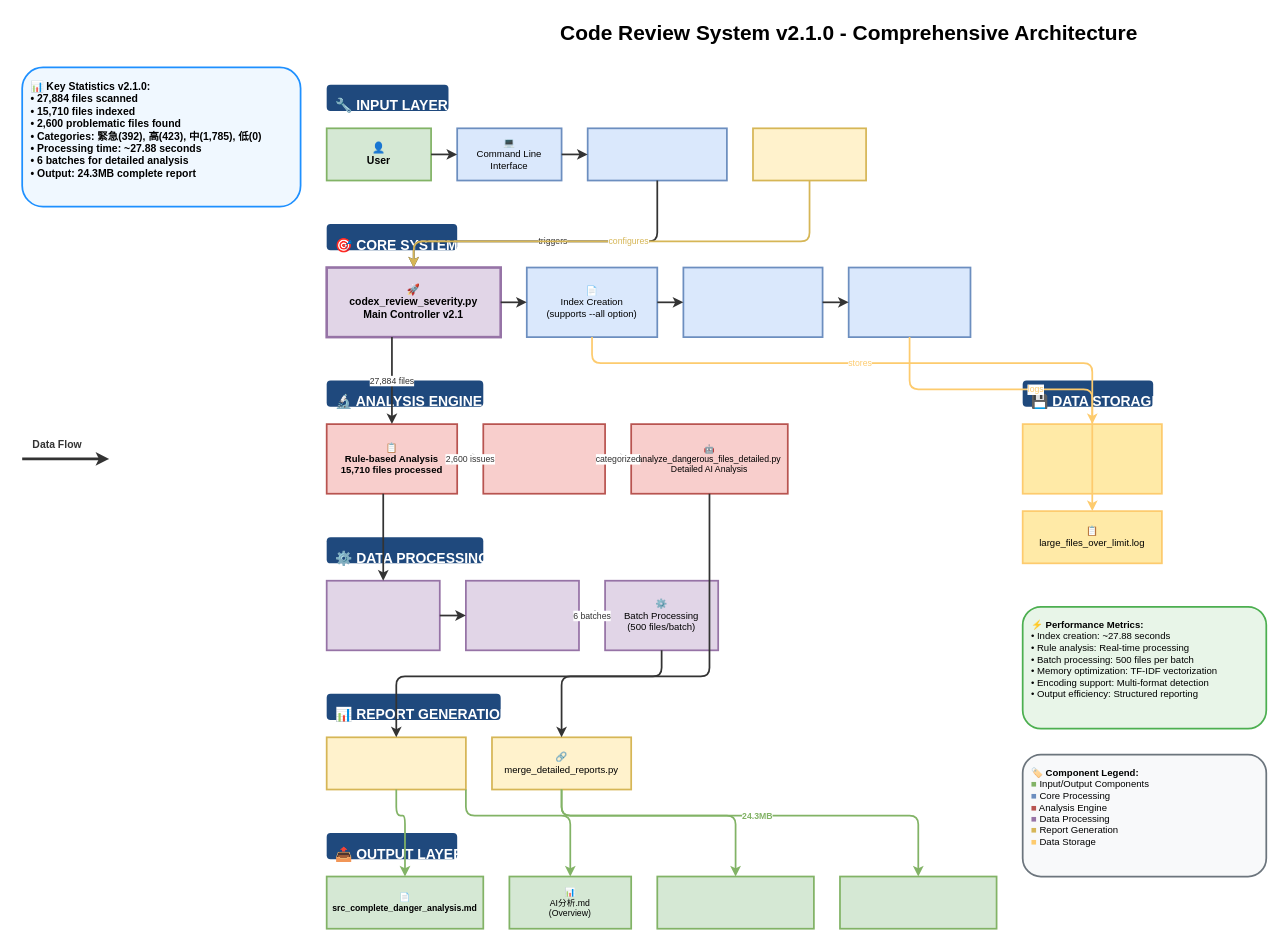
Some shapes in this 1282 by 944 pixel diagram are drawn without their labels. The box of each missing label's shape, as (x1, y1, x2, y2) in pixels:
⚙️ Batch File run_detailed_analysis_auto.bat: (586, 127, 727, 181)
⚡ Severity Scoring 緊急/高/中/低: (482, 423, 606, 494)
💾 .advice_index.pickle .advice_index.meta.json: (1021, 423, 1162, 494)
📈 create_overview_report.py: (325, 736, 466, 790)
📑 AI分析_詳細_改善版_batch1-6.md: (656, 875, 814, 929)
📖 AI分析_詳細_改善版_完全版.md (24.3MB Final Report): (839, 875, 997, 929)
🔍 Encoding Detection UTF-8/CP932/Shift-JIS/Latin-1: (682, 266, 823, 338)
🔎 scikit-learn similarity search: (465, 579, 579, 651)
🔧 Environment Config (.env): (752, 127, 867, 181)
🗂️ File Filter (language and size): (847, 266, 971, 338)
🧮 TF-IDF Vectorization: (325, 579, 440, 651)
